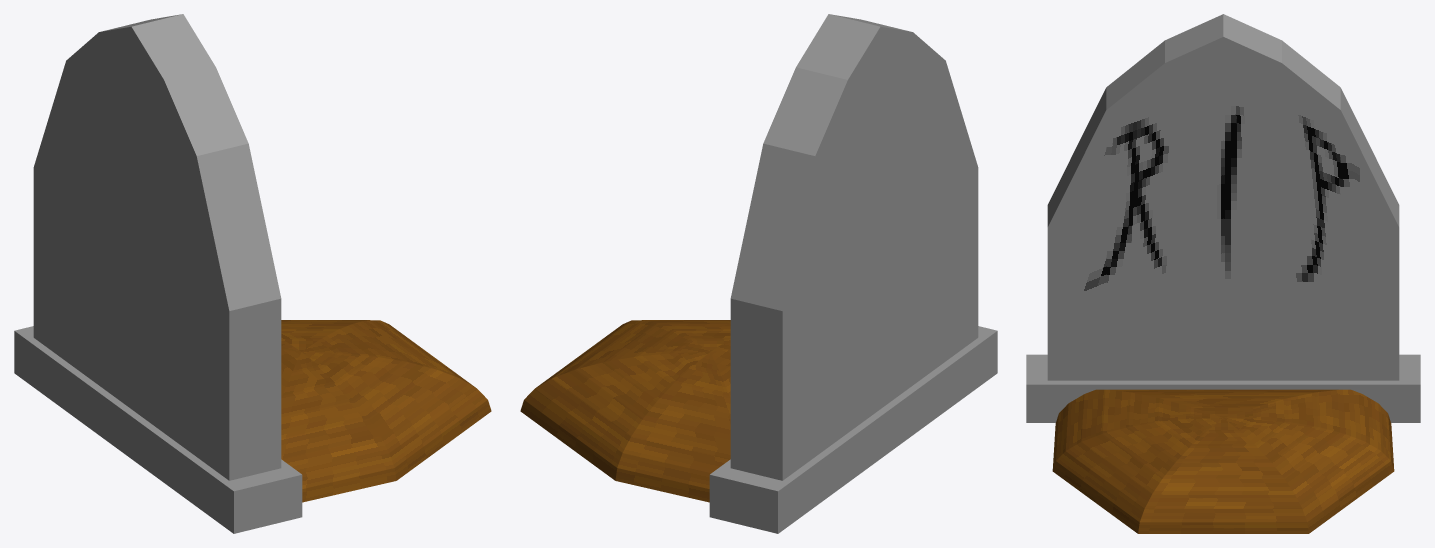
Rendered from graveyard.obj.
3 renders of one model, left to right at view 1: azimuth 30°, elevation 25°; view 2: azimuth 150°, elevation 25°; view 3: azimuth 270°, elevation 25°, orthographic. The views are drawn at different scales.
Parts seen in each view (by area): view 1: Cube.001_Cube, Sphere, Cube_Cube.001; view 2: Cube.001_Cube, Sphere, Cube_Cube.001; view 3: Cube.001_Cube, Sphere, Cube_Cube.001.
Boxes of the visible parts, box(x1,y1,x2,y2) form: Cube.001_Cube: box(33, 14, 281, 480); Sphere: box(281, 320, 491, 502); Cube_Cube.001: box(14, 326, 302, 533); Cube.001_Cube: box(730, 14, 978, 480); Sphere: box(520, 320, 730, 502); Cube_Cube.001: box(709, 326, 997, 533); Cube.001_Cube: box(1047, 14, 1399, 380); Sphere: box(1052, 389, 1394, 533); Cube_Cube.001: box(1026, 354, 1420, 422).
Size of the model in its own units: 15.72 by 20 by 18.67.
Materials: 2 (2 with a texture image).
